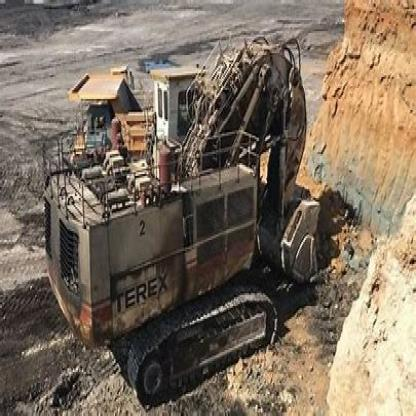excavator: (39, 22, 351, 387)
